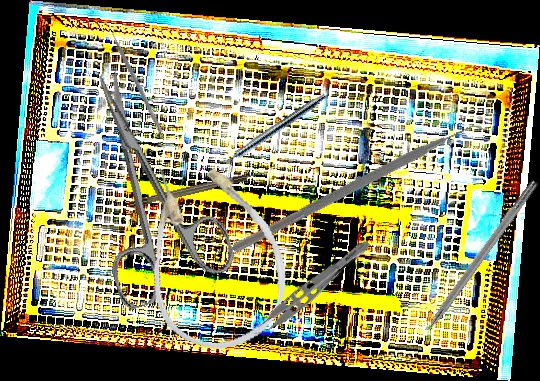Cannula: (124, 144, 302, 362)
Chopper: (231, 48, 495, 335)
Handpiece: (213, 89, 329, 173)
Hook Surgical: (409, 177, 540, 351), (128, 168, 270, 209)
Iris Scissors: (53, 53, 241, 313)
Spatula Surgical: (106, 25, 168, 134)
Tissue Forceps: (246, 229, 374, 344)
